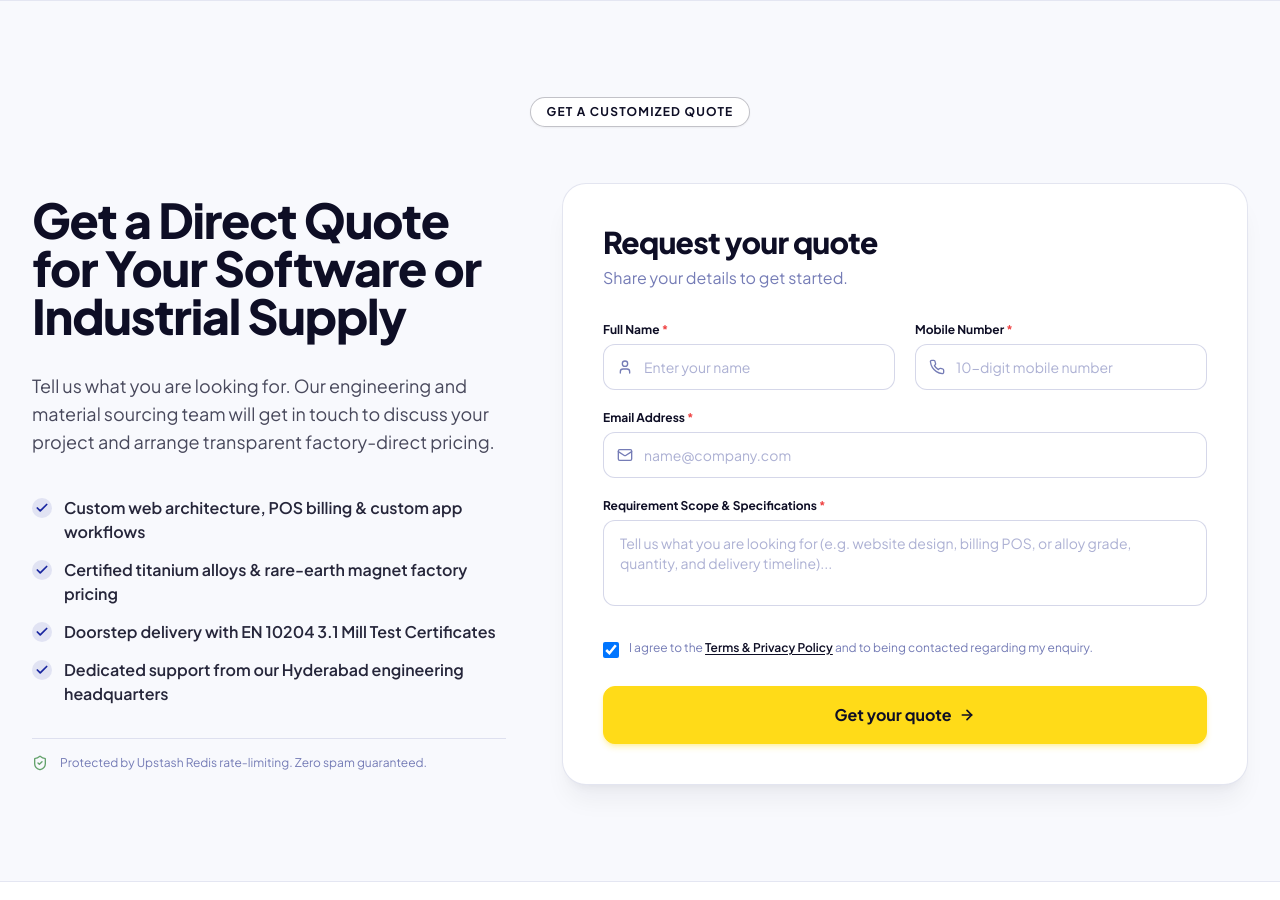
Test: Component: ContactUs › shows error message when submitted with empty fields
Click the button "Get your quote". click: (905, 715)
box: [603,686,1207,744]
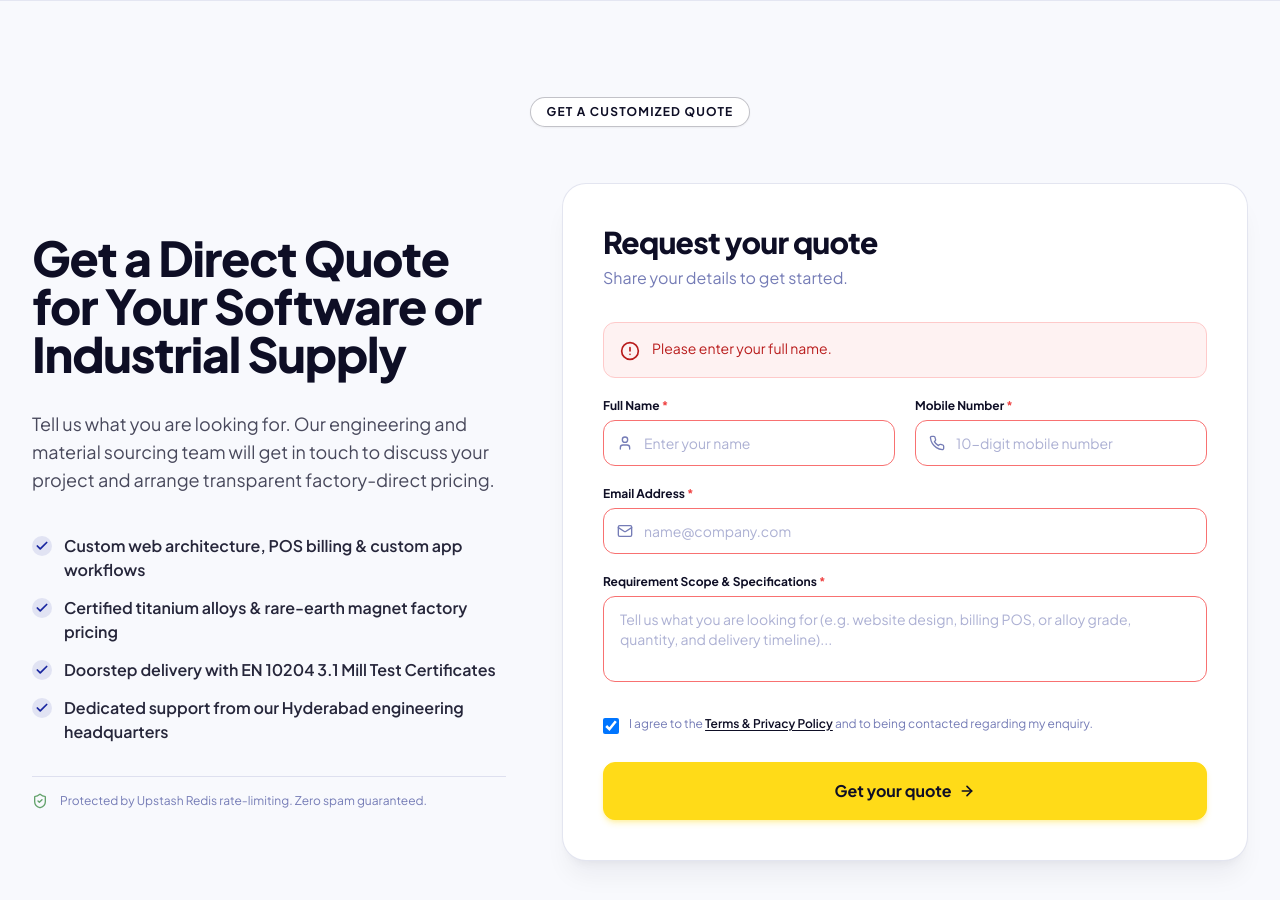
Expected: the text "Please enter your full name." is shown, [652,339,832,358]
